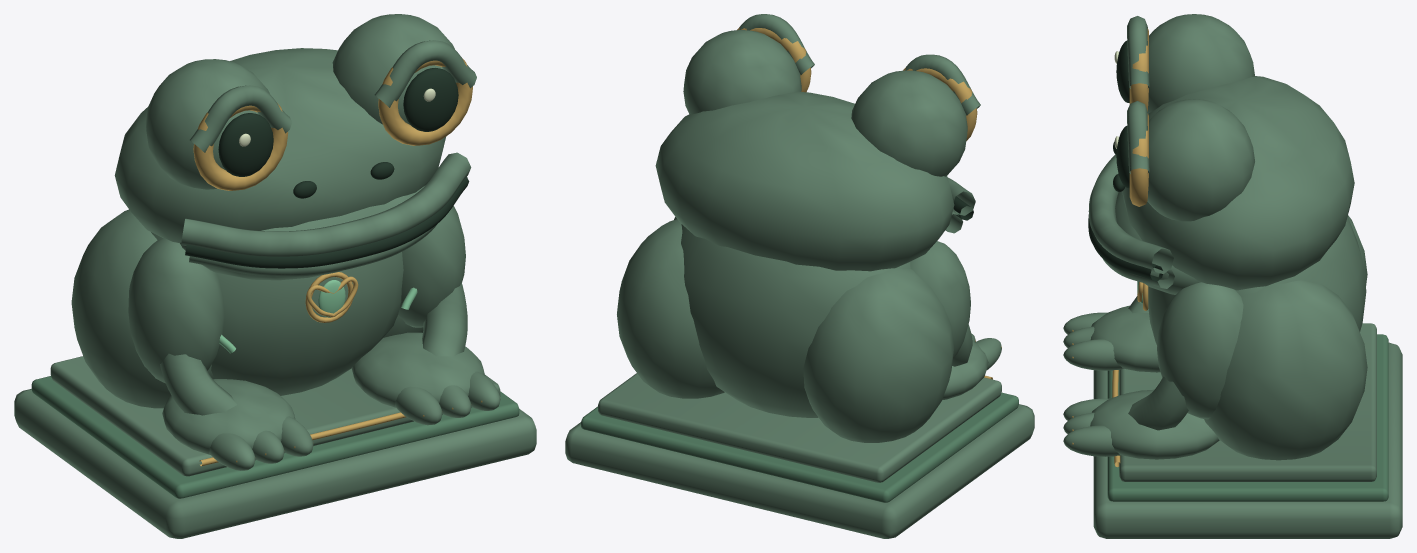
File: sculpted-guardian.glb
The picture shows the model from 3 angles, left to right: view 1: azimuth 30°, elevation 25°; view 2: azimuth 150°, elevation 25°; view 3: azimuth 270°, elevation 25°; orthographic projection. The views are drawn at different scales.
Visible parts, largest first — view 1: Guardian Weathered Emerald Stone, Guardian Deep Moss Carving, Guardian Polished Obsidian Eyes, Guardian Aged Crown Bronze, Guardian Inset Jade Motif; view 2: Guardian Weathered Emerald Stone, Guardian Deep Moss Carving, Guardian Aged Crown Bronze; view 3: Guardian Weathered Emerald Stone, Guardian Deep Moss Carving, Guardian Polished Obsidian Eyes, Guardian Aged Crown Bronze.
Part boxes in pixels (bbox=[...]): Guardian Weathered Emerald Stone: bbox=[14, 14, 536, 538]; Guardian Deep Moss Carving: bbox=[31, 376, 519, 498]; Guardian Polished Obsidian Eyes: bbox=[185, 68, 469, 268]; Guardian Aged Crown Bronze: bbox=[193, 58, 482, 466]; Guardian Inset Jade Motif: bbox=[219, 280, 417, 353]; Guardian Weathered Emerald Stone: bbox=[565, 14, 1034, 538]; Guardian Deep Moss Carving: bbox=[581, 392, 1018, 502]; Guardian Aged Crown Bronze: bbox=[737, 27, 1001, 379]; Guardian Weathered Emerald Stone: bbox=[1063, 14, 1402, 538]; Guardian Deep Moss Carving: bbox=[1107, 334, 1388, 501]; Guardian Polished Obsidian Eyes: bbox=[1088, 40, 1162, 281]; Guardian Aged Crown Bronze: bbox=[1072, 28, 1148, 467].
Bounding box in the file's own units: 1.84 × 2 × 1.55.
